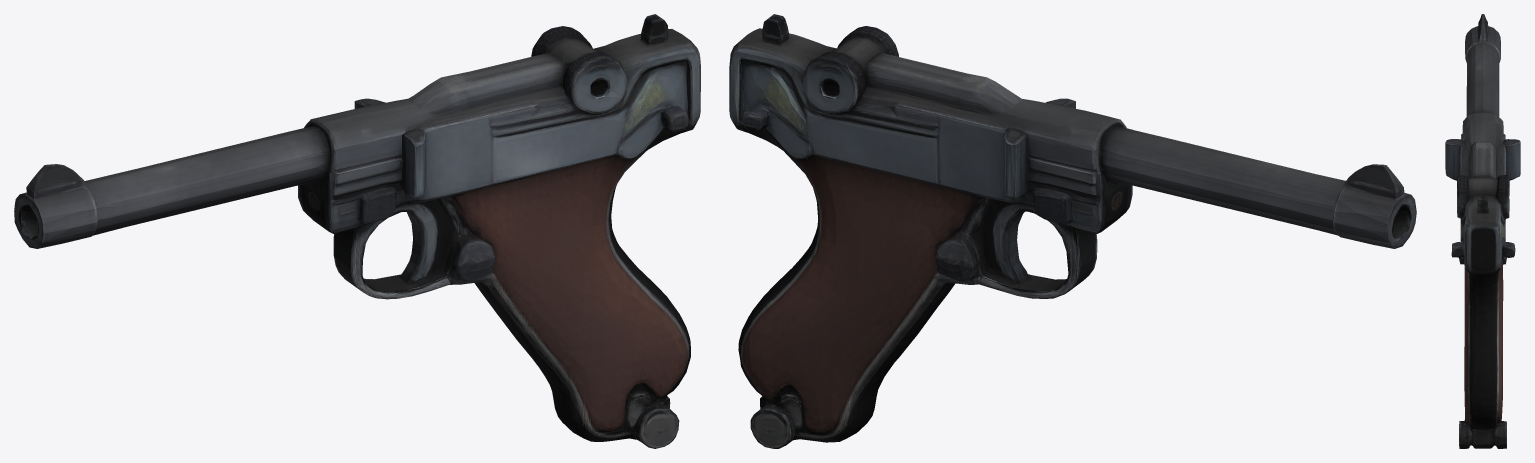
File: Luger.glb
3 views of the same model, side by side, from view 1: azimuth 30°, elevation 25°; view 2: azimuth 150°, elevation 25°; view 3: azimuth 270°, elevation 25° (orthographic). The views are drawn at different scales.
Visible parts, largest first — view 1: world; view 2: world; view 3: world.
Part boxes in pixels (<box>): world: <box>14,14,700,448</box>; world: <box>729,14,1416,448</box>; world: <box>1445,14,1520,448</box>.
Size of the model in its own units: 0.9997 by 0.5994 by 0.1608.
1 material, 1 textured.
